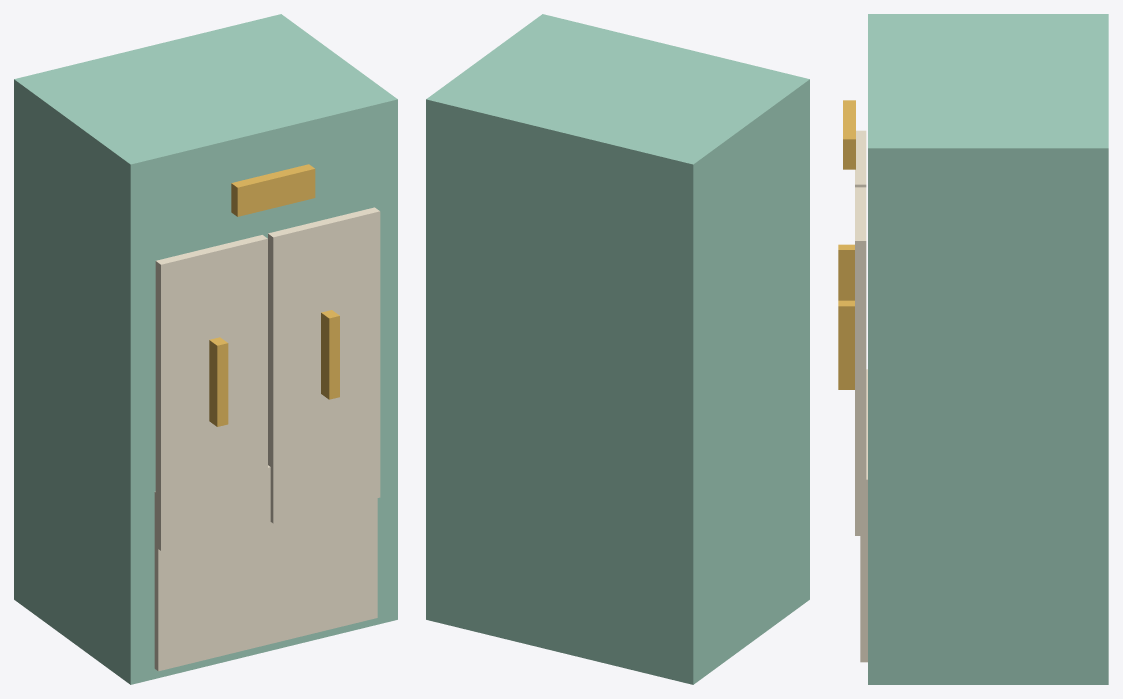
The model's file is fridge_double.glb.
The picture shows the model from 3 angles, left to right: view 1: azimuth 30°, elevation 25°; view 2: azimuth 150°, elevation 25°; view 3: azimuth 270°, elevation 25°; orthographic projection. The views are drawn at different scales.
Visible parts, largest first — view 1: fridge_double; view 2: fridge_double; view 3: fridge_double.
Boxes of the visible parts, left/top/right/bottom form: fridge_double: left=14, top=14, right=397, bottom=684; fridge_double: left=426, top=14, right=809, bottom=684; fridge_double: left=838, top=14, right=1108, bottom=684.
Size of the model in its own units: 0.86 by 1.6 by 0.73.
